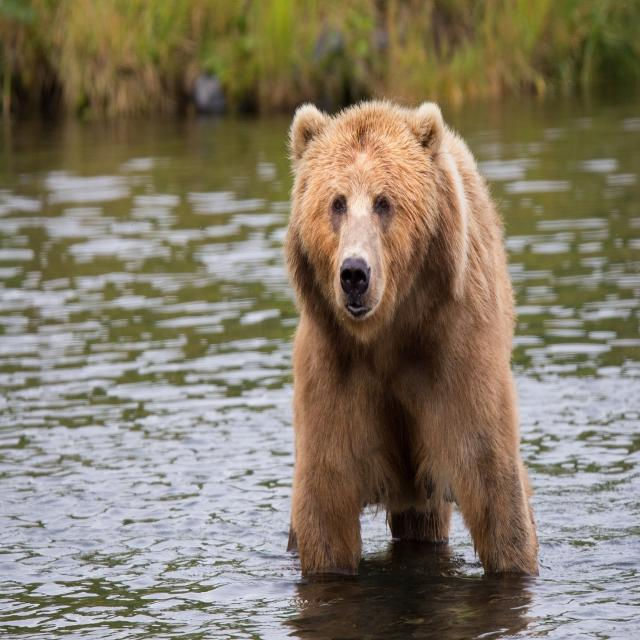animal: (283, 90, 540, 576)
